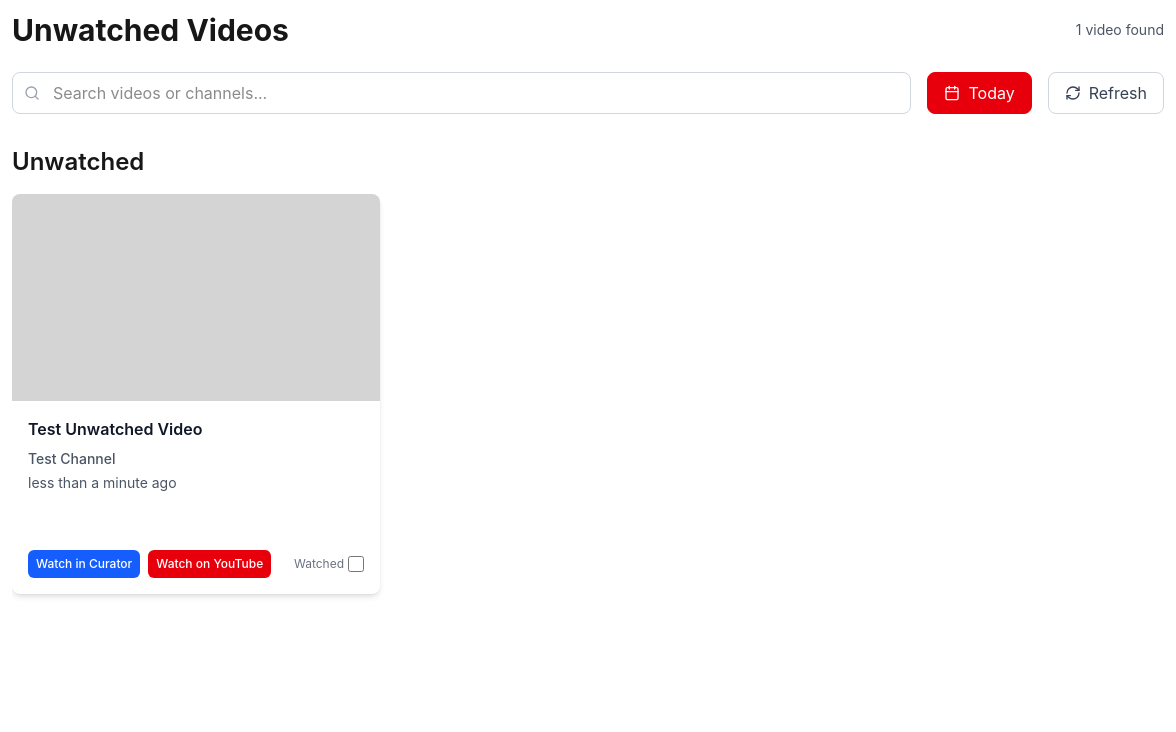
Test: VideosPage › updates UI when video is marked as watched without refetching from API
This screenshot has width=1176, height=732.
Expected: the heading "Test Unwatched Video" is shown, [28,419,202,439]
Expected: the heading "Unwatched" is shown, [12,147,144,176]
Click the checkbox: coordinates (356, 564) [348,556,364,572]
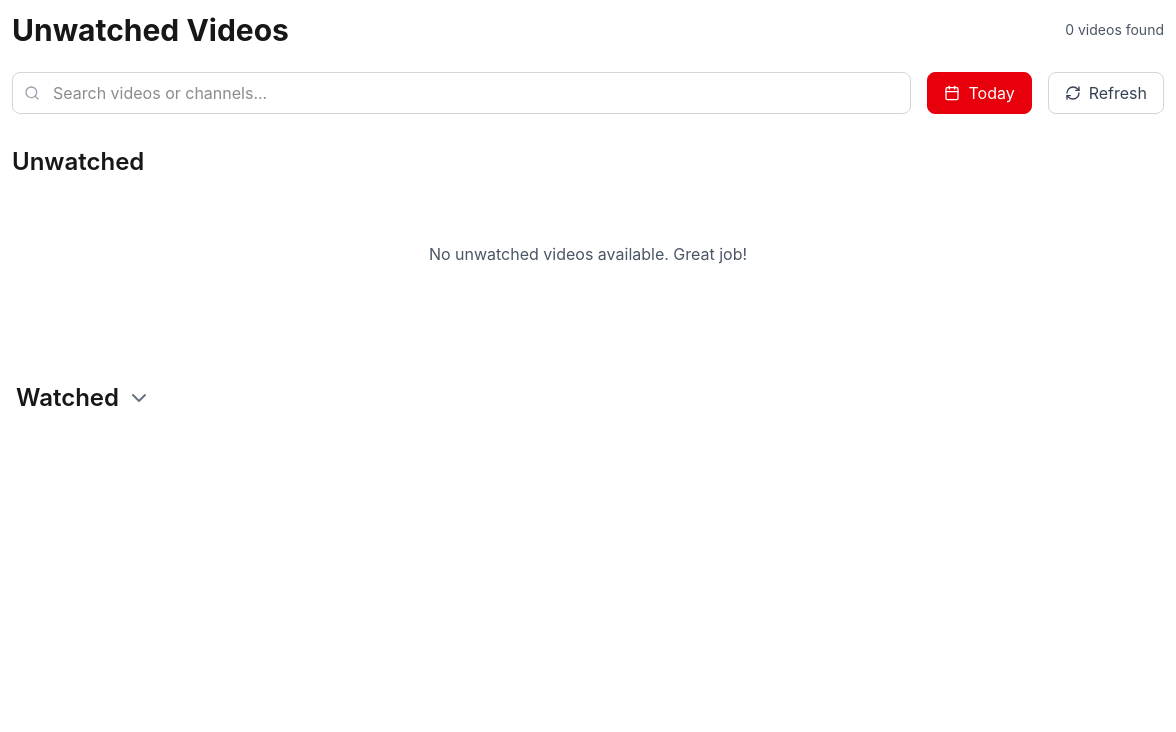
Expected: the heading "Watched" is shown, [16,382,119,414]
Now the link "Test Unwatched Video" is gone
Click the button "Watched": coordinates (68, 398) [12,378,1164,418]
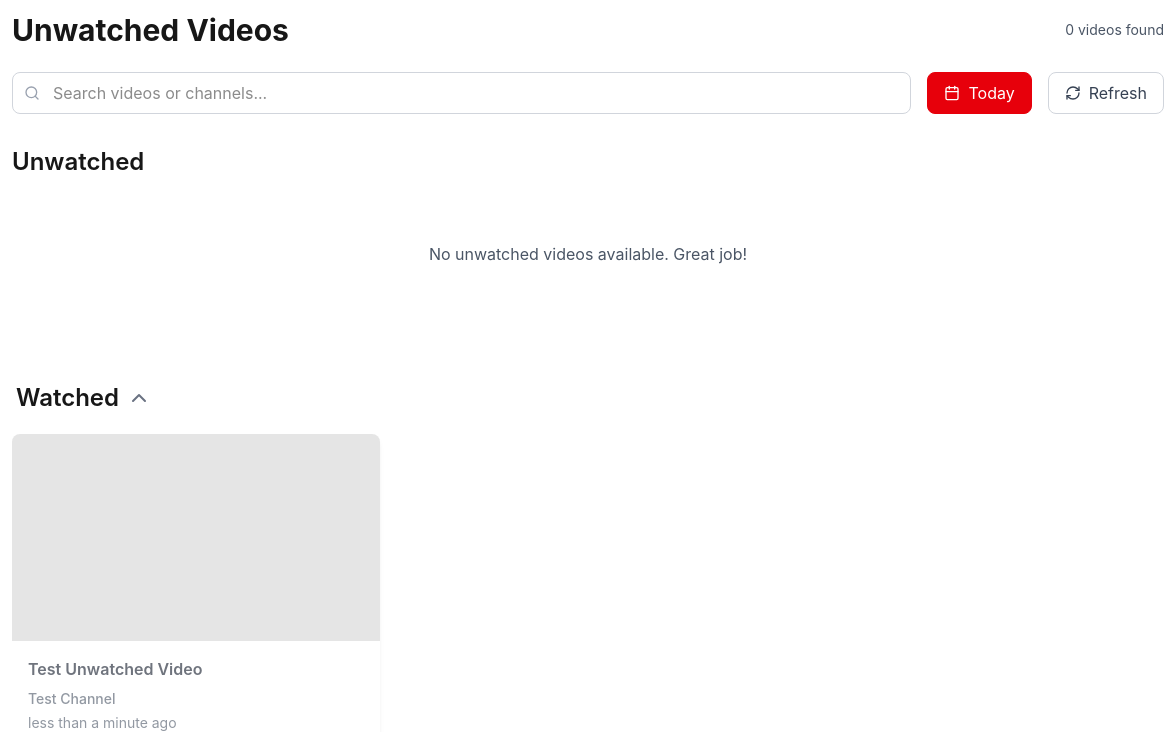
Now the button "Watched" is expanded, box [12,378,1164,418]
Now the heading "Test Unwatched Video" is shown, box [28,659,202,679]
